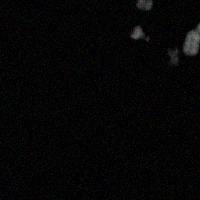chromosome: (184, 21, 200, 56), (131, 27, 149, 43), (167, 48, 181, 68), (134, 0, 153, 10)
